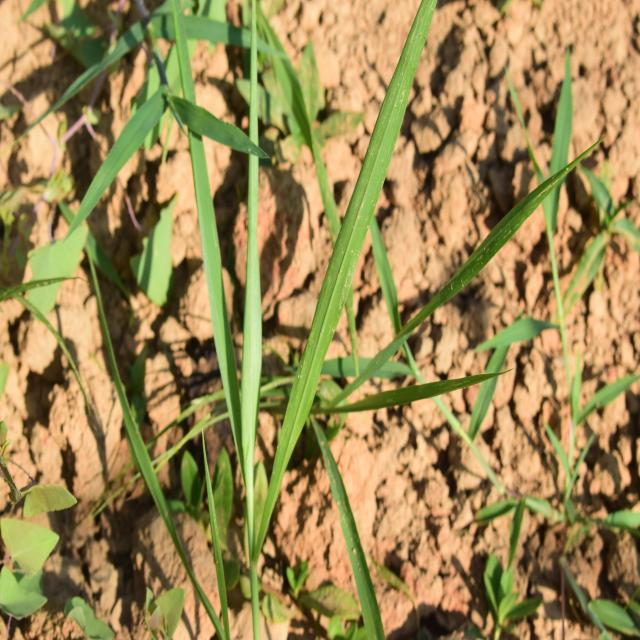green_foxtail: (138, 80, 438, 560)
